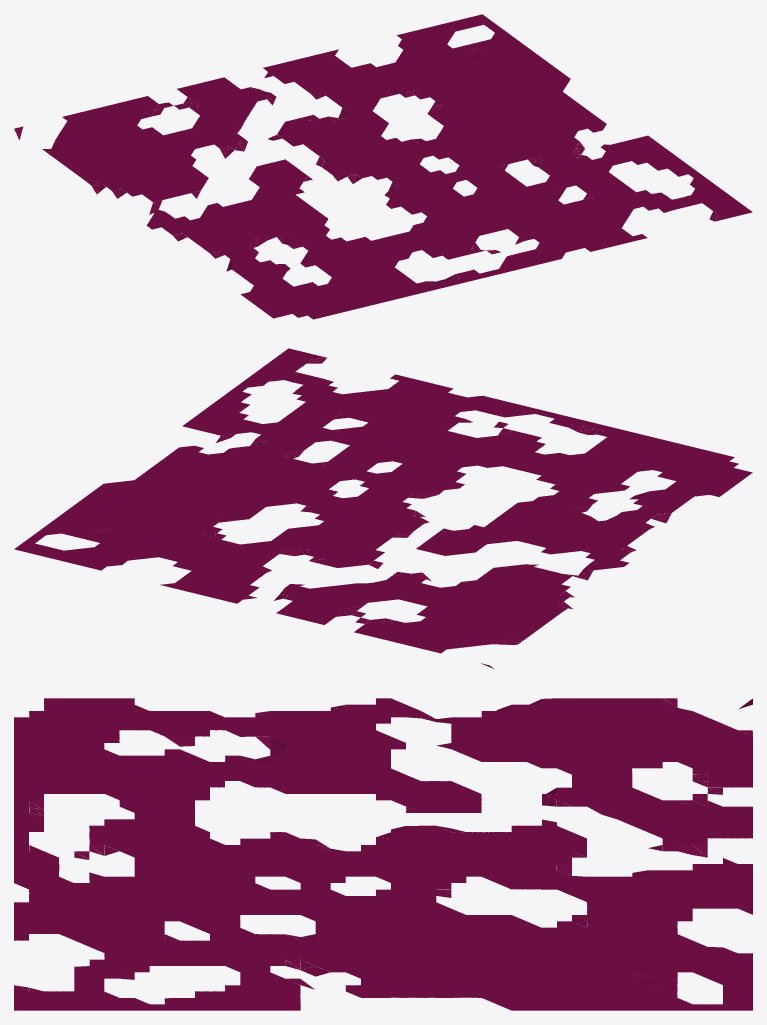
Rendered from navmesh.gltf.
3 views of the same model, one above another, from view 1: azimuth 30°, elevation 25°; view 2: azimuth 150°, elevation 25°; view 3: azimuth 270°, elevation 25° (orthographic). The views are drawn at different scales.
Parts seen in each view (by area): view 1: 017; view 2: 017; view 3: 017.
Part boxes in pixels (bbox=[...]): 017: bbox=[14, 14, 752, 319]; 017: bbox=[14, 348, 752, 669]; 017: bbox=[14, 698, 752, 1010].
Bounding box in the file's own units: 295 × 4.95 × 295.
